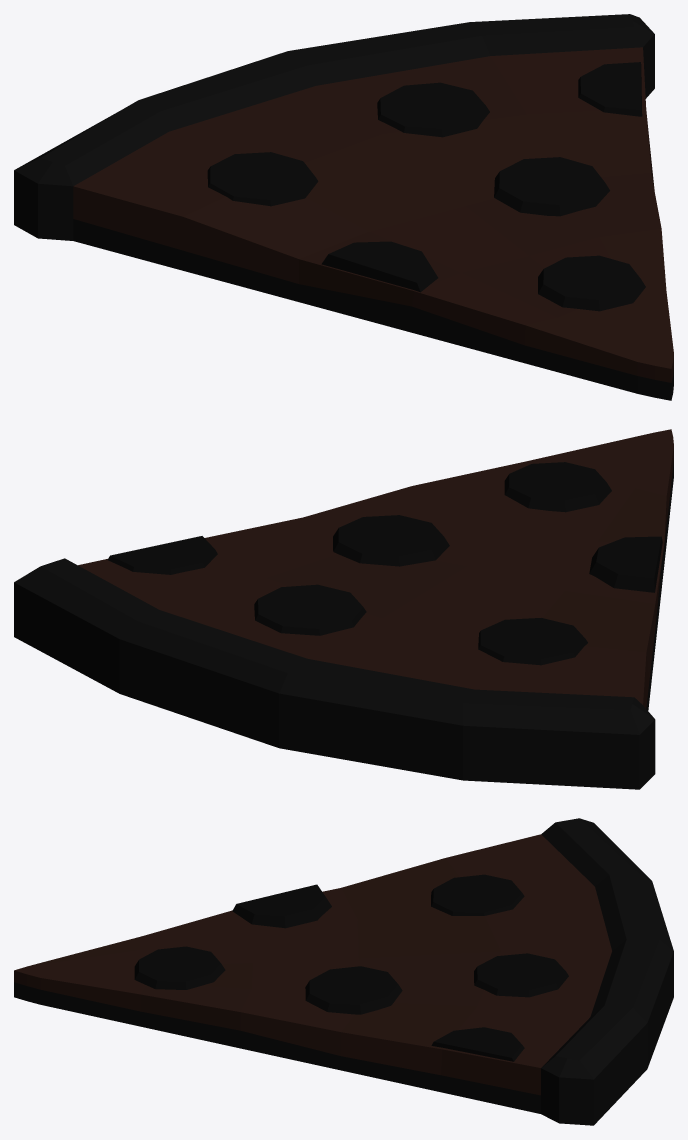
The model's file is Pizza_Burned.obj.
3 views of the same model, one above another, from view 1: azimuth 30°, elevation 25°; view 2: azimuth 150°, elevation 25°; view 3: azimuth 270°, elevation 25° (orthographic). The views are drawn at different scales.
Visible parts, largest first — view 1: Pizza_Burned_Cube.046; view 2: Pizza_Burned_Cube.046; view 3: Pizza_Burned_Cube.046.
Boxes of the visible parts, x1,y1,x2,y2 form: Pizza_Burned_Cube.046: (14,14,673,400); Pizza_Burned_Cube.046: (14,429,673,789); Pizza_Burned_Cube.046: (14,818,673,1125).
Size of the model in its own units: 1.07 by 0.1128 by 1.16.
